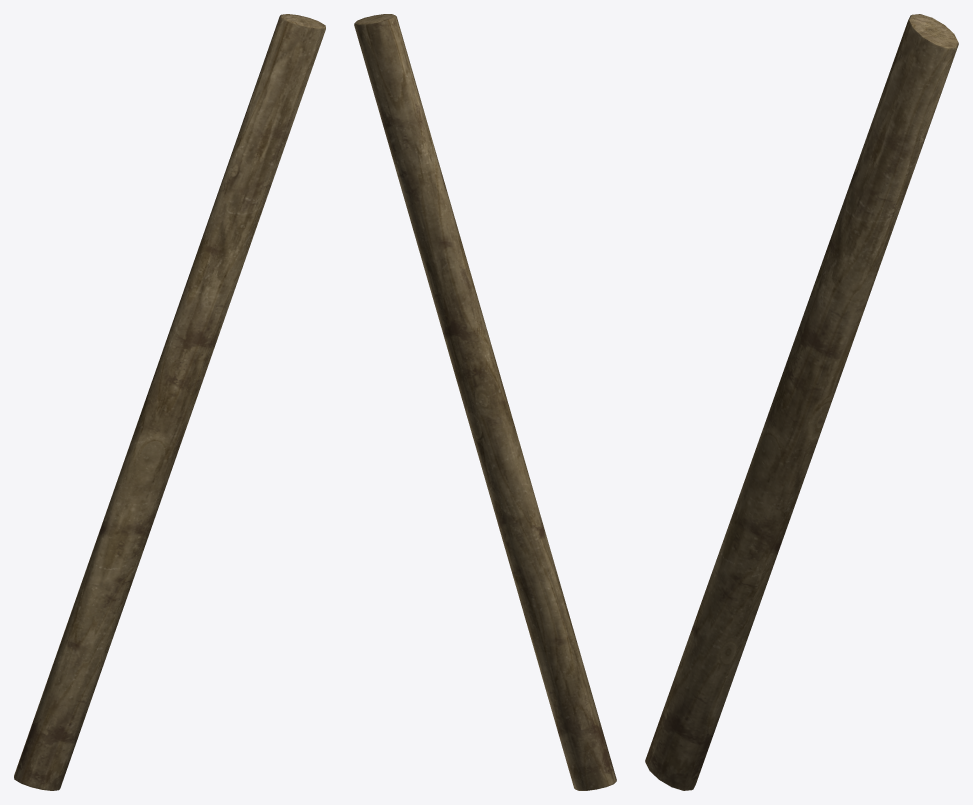
The picture shows the model from 3 angles, left to right: view 1: azimuth 30°, elevation 25°; view 2: azimuth 150°, elevation 25°; view 3: azimuth 330°, elevation 25°; orthographic projection. The views are drawn at different scales.
Visible parts, largest first — view 1: Cylinder003_Material_0_0; view 2: Cylinder003_Material_0_0; view 3: Cylinder003_Material_0_0.
Part boxes in pixels (left/top/right/bottom): Cylinder003_Material_0_0: left=14, top=14, right=325, bottom=790; Cylinder003_Material_0_0: left=354, top=14, right=616, bottom=790; Cylinder003_Material_0_0: left=645, top=14, right=958, bottom=790.
Bounding box in the file's own units: 1.11 × 2.69 × 0.2353.
1 material, 1 textured.
